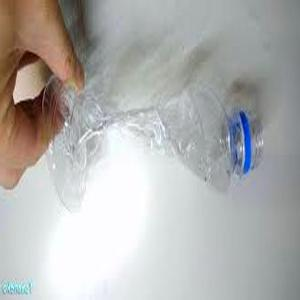Plastic: (49, 77, 265, 214)
